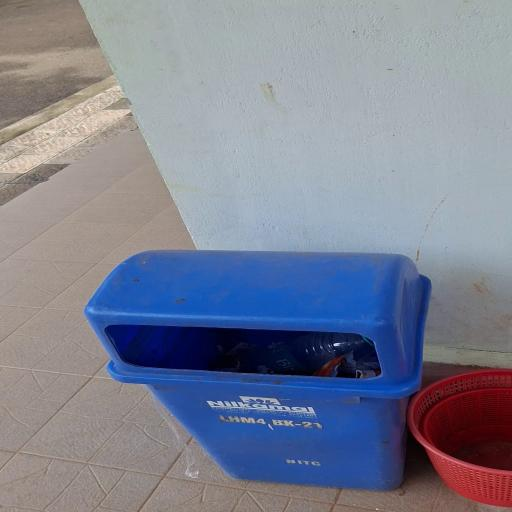Nilkamal-dustbin-detection: (86, 250, 430, 490)
